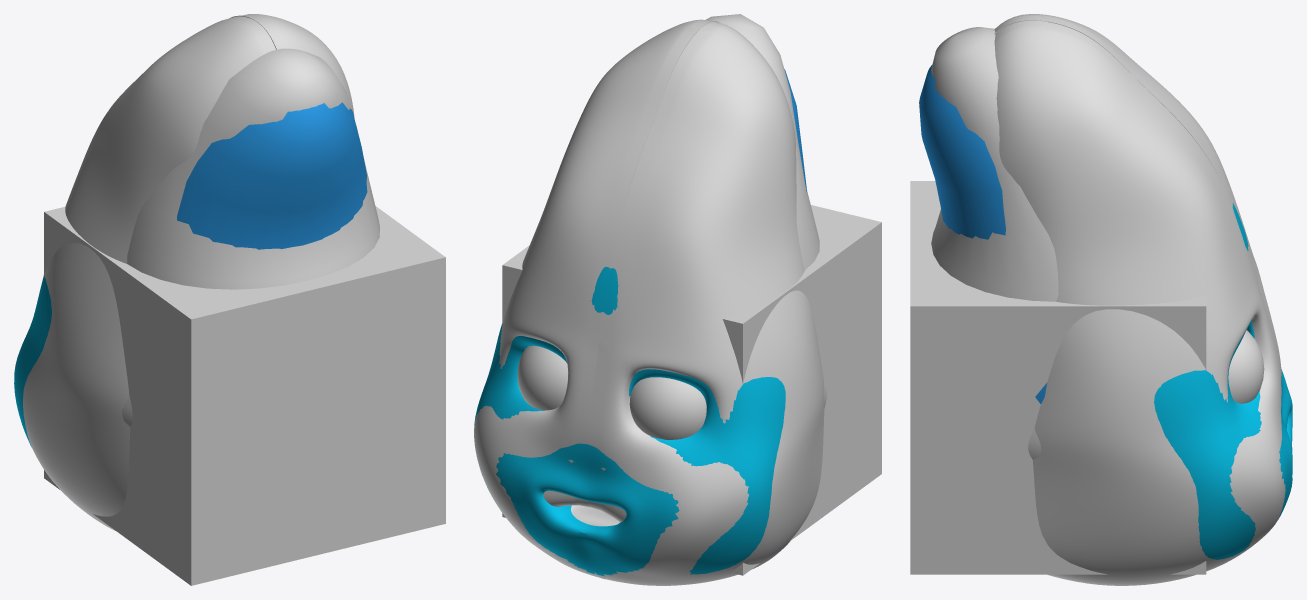
File: splipy2.fbx
3 views of the same model, side by side, from view 1: azimuth 30°, elevation 25°; view 2: azimuth 150°, elevation 25°; view 3: azimuth 270°, elevation 25° (orthographic). The views are drawn at different scales.
Parts seen in each view (by area): view 1: Cube, Cube.003, Sphere, Sphere.002, Cube.001; view 2: Cube.003, Cube.001, Cube, Sphere.001, Sphere; view 3: Cube.003, Cube, Sphere, Cube.001, Sphere.002, Sphere.001.
Boxes of the visible parts, left/top/right/bottom form: Cube: left=44, top=206, right=445, bottom=585; Cube.003: left=14, top=14, right=354, bottom=530; Sphere: left=127, top=48, right=379, bottom=289; Sphere.002: left=177, top=102, right=367, bottom=249; Cube.001: left=14, top=276, right=51, bottom=447; Cube.003: left=474, top=19, right=824, bottom=585; Cube.001: left=474, top=266, right=785, bottom=576; Cube: left=502, top=205, right=881, bottom=575; Sphere.001: left=517, top=345, right=706, bottom=439; Sphere: left=706, top=14, right=819, bottom=269; Cube.003: left=994, top=14, right=1285, bottom=585; Cube: left=910, top=181, right=1206, bottom=574; Sphere: left=931, top=27, right=1058, bottom=301; Cube.001: left=1154, top=203, right=1292, bottom=559; Sphere.002: left=919, top=65, right=1047, bottom=403; Sphere.001: left=1228, top=330, right=1264, bottom=403.
Bounding box in the file's own units: 241 × 398 × 258.
